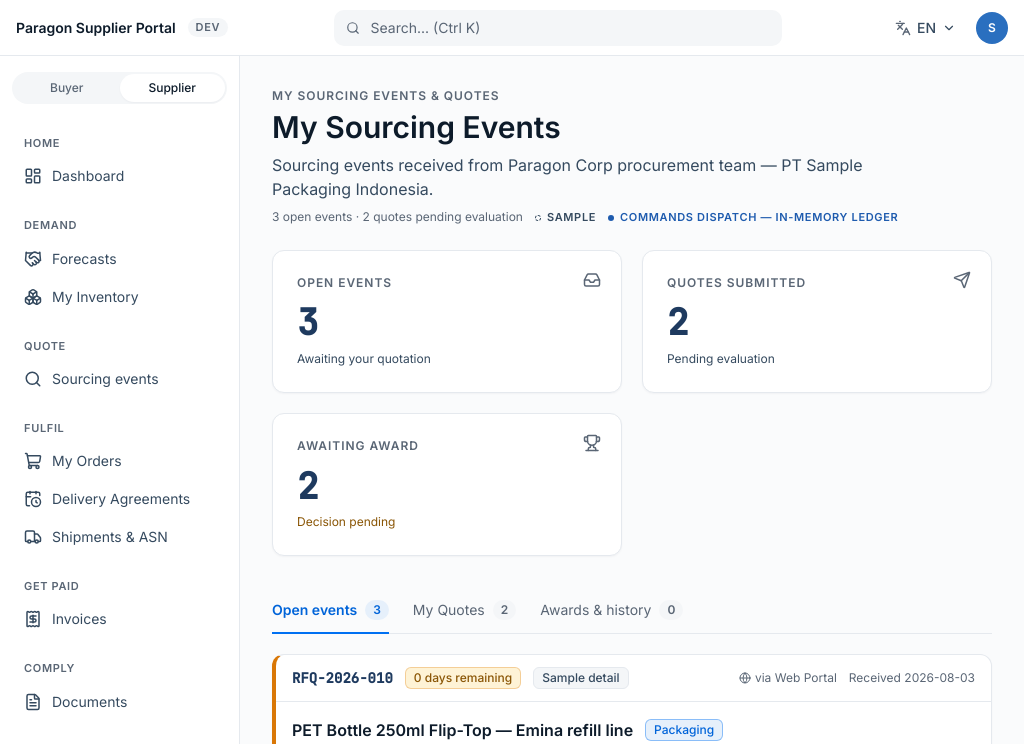
Test case: SupplierRFQs — four honest states + wired reads › data: real quotations drive My-Quotes and prune already-quoted RFQs from Open (Task 3b)
Check: the text "Open Events" is shown, box [297,275,392,290]
Check: the text "RFQ-2026-002" is not shown
Step 1. Click the tab "My Quotes 2" → [465, 611], box [413,588,516,634]
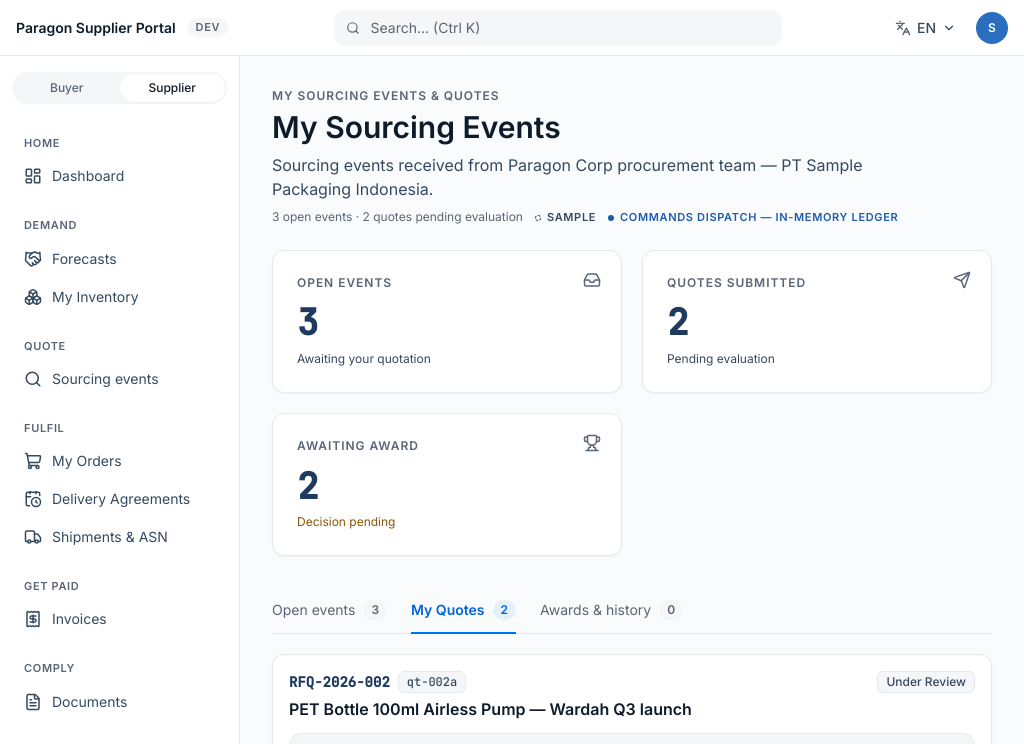
Check: the text "RFQ-2026-002" is shown, box [289,672,390,692]
